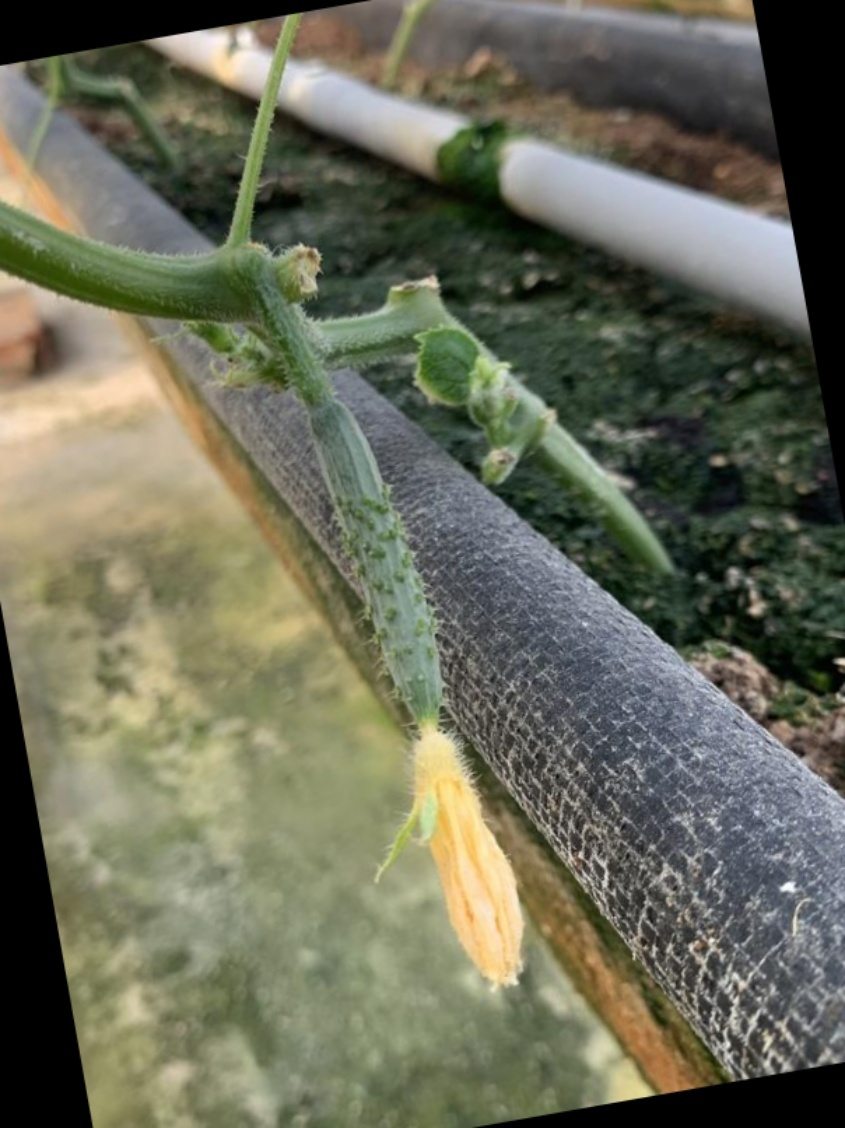bear: (293, 384, 542, 1000)
